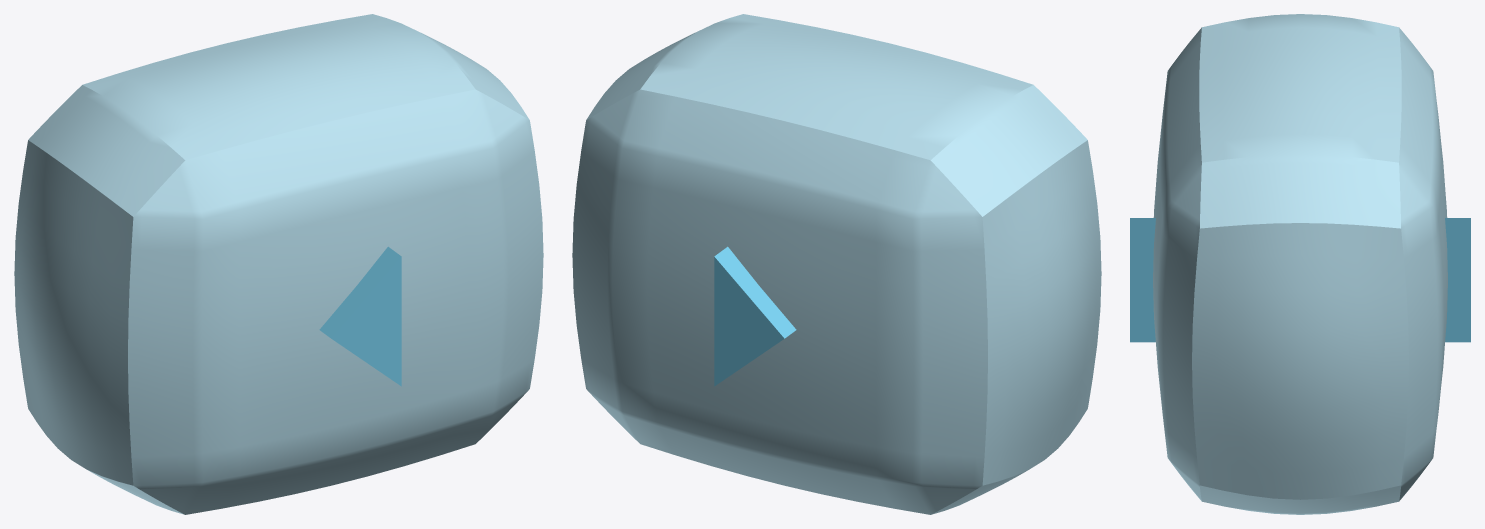
File: play_button_animation_frame8.fbx
3 views of the same model, side by side, from view 1: azimuth 30°, elevation 25°; view 2: azimuth 150°, elevation 25°; view 3: azimuth 270°, elevation 25° (orthographic). The views are drawn at different scales.
Visible parts, largest first — view 1: Button, Triangle; view 2: Button, Triangle; view 3: Button, Triangle.
Part boxes in pixels (<box>): Button: <box>14,14,543,514</box>; Triangle: <box>319,246,401,386</box>; Button: <box>572,14,1101,514</box>; Triangle: <box>714,246,796,386</box>; Button: <box>1153,14,1447,514</box>; Triangle: <box>1130,218,1470,342</box>.
Size of the model in its own units: 365 by 300 by 245.
